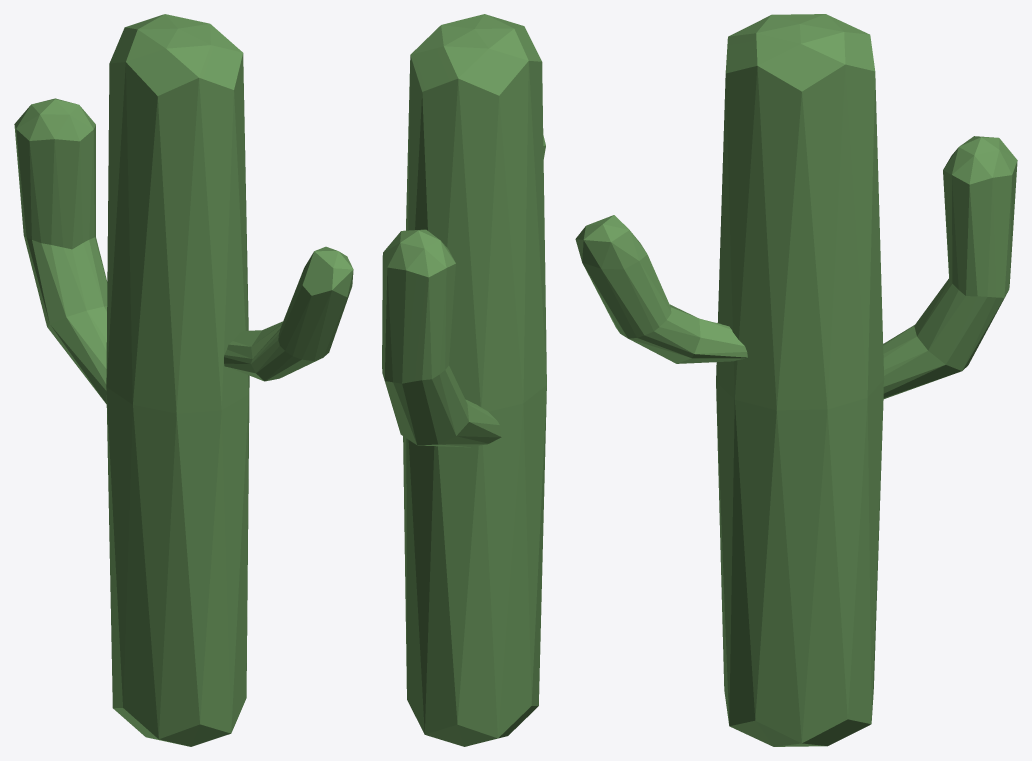
Rendered from Cactus_V04.fbx.
The picture shows the model from 3 angles, left to right: view 1: azimuth 30°, elevation 25°; view 2: azimuth 150°, elevation 25°; view 3: azimuth 270°, elevation 25°; orthographic projection.
Parts seen in each view (by area): view 1: Cactus_V04; view 2: Cactus_V04; view 3: Cactus_V04.
Part boxes in pixels (x1=…): Cactus_V04: x1=14, y1=14, x2=353, y2=746; Cactus_V04: x1=382, y1=14, x2=546, y2=746; Cactus_V04: x1=575, y1=14, x2=1017, y2=746.
Size of the model in its own units: 47.64 by 223 by 124.
